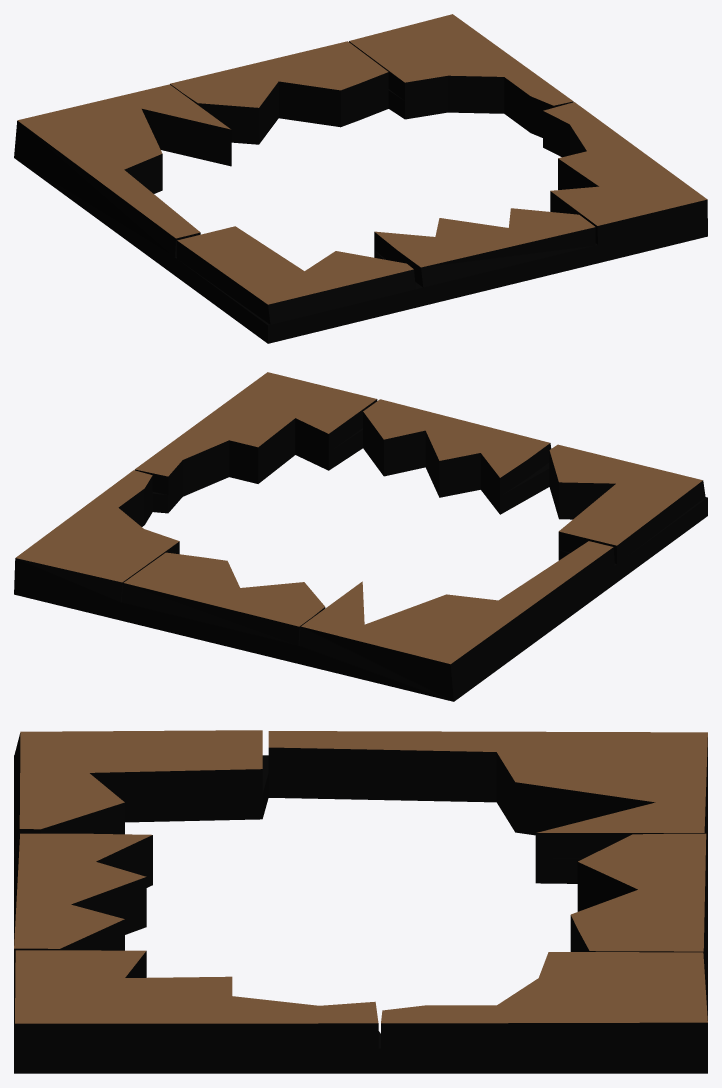
File: Tile_trou (3).fbx
3 renders of one model, top to bottom at view 1: azimuth 30°, elevation 25°; view 2: azimuth 150°, elevation 25°; view 3: azimuth 270°, elevation 25°, orthographic. The views are drawn at different scales.
Parts seen in each view (by area): view 1: Tile Touee; view 2: Tile Touee; view 3: Tile Touee.
Part boxes in pixels (x1,y1,x2,y2): Tile Touee: (14,14,707,343); Tile Touee: (14,372,707,701); Tile Touee: (14,730,707,1073).
Bounding box in the file's own units: 50 × 4 × 50.
